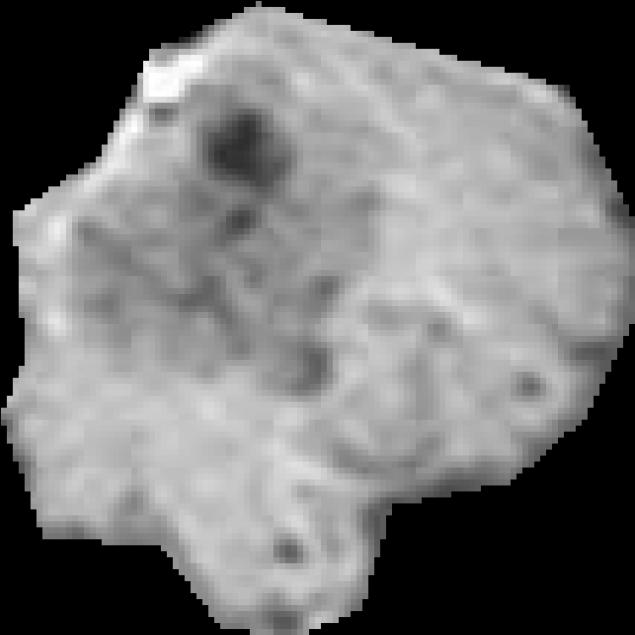tumor_good_chance: (1, 1, 635, 635)
